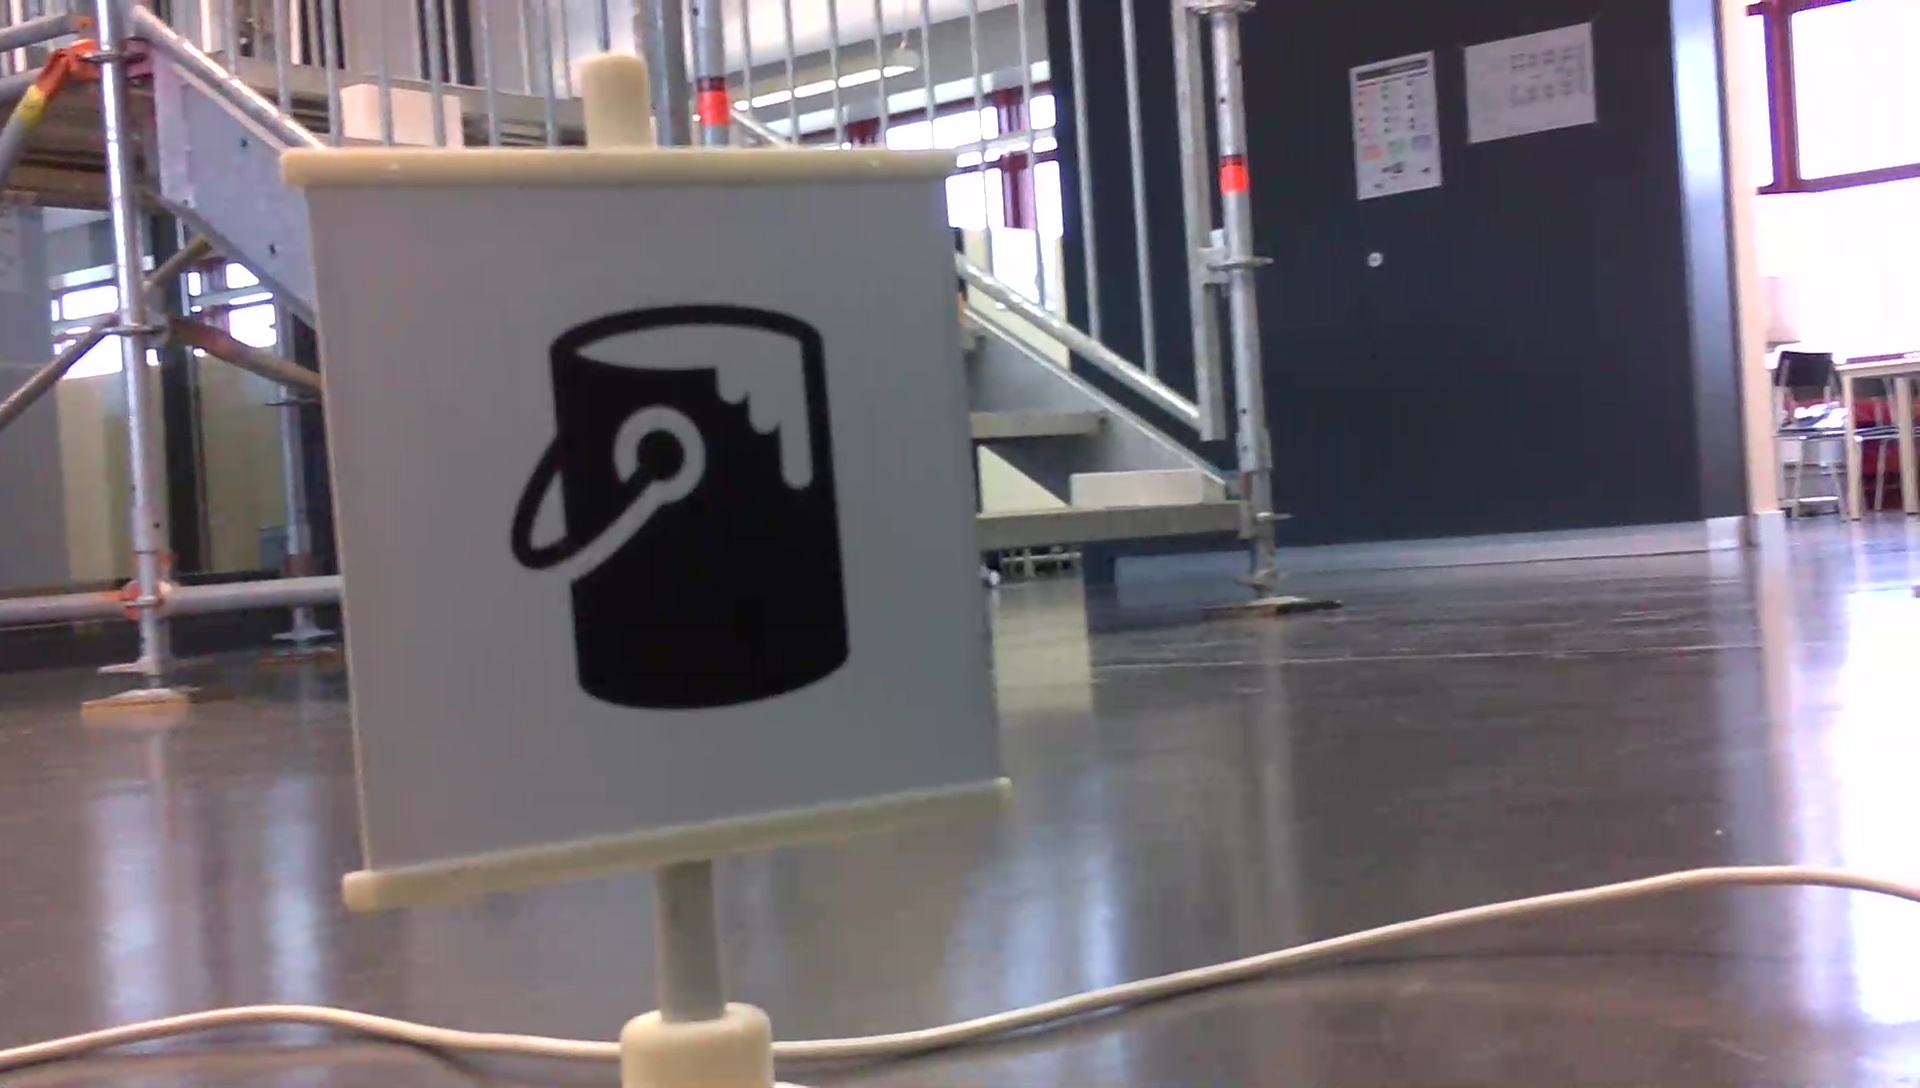brick: (1071, 471, 1195, 502)
bucket: (496, 290, 857, 721)
edge: (978, 502, 1240, 549), (971, 408, 1112, 437)
